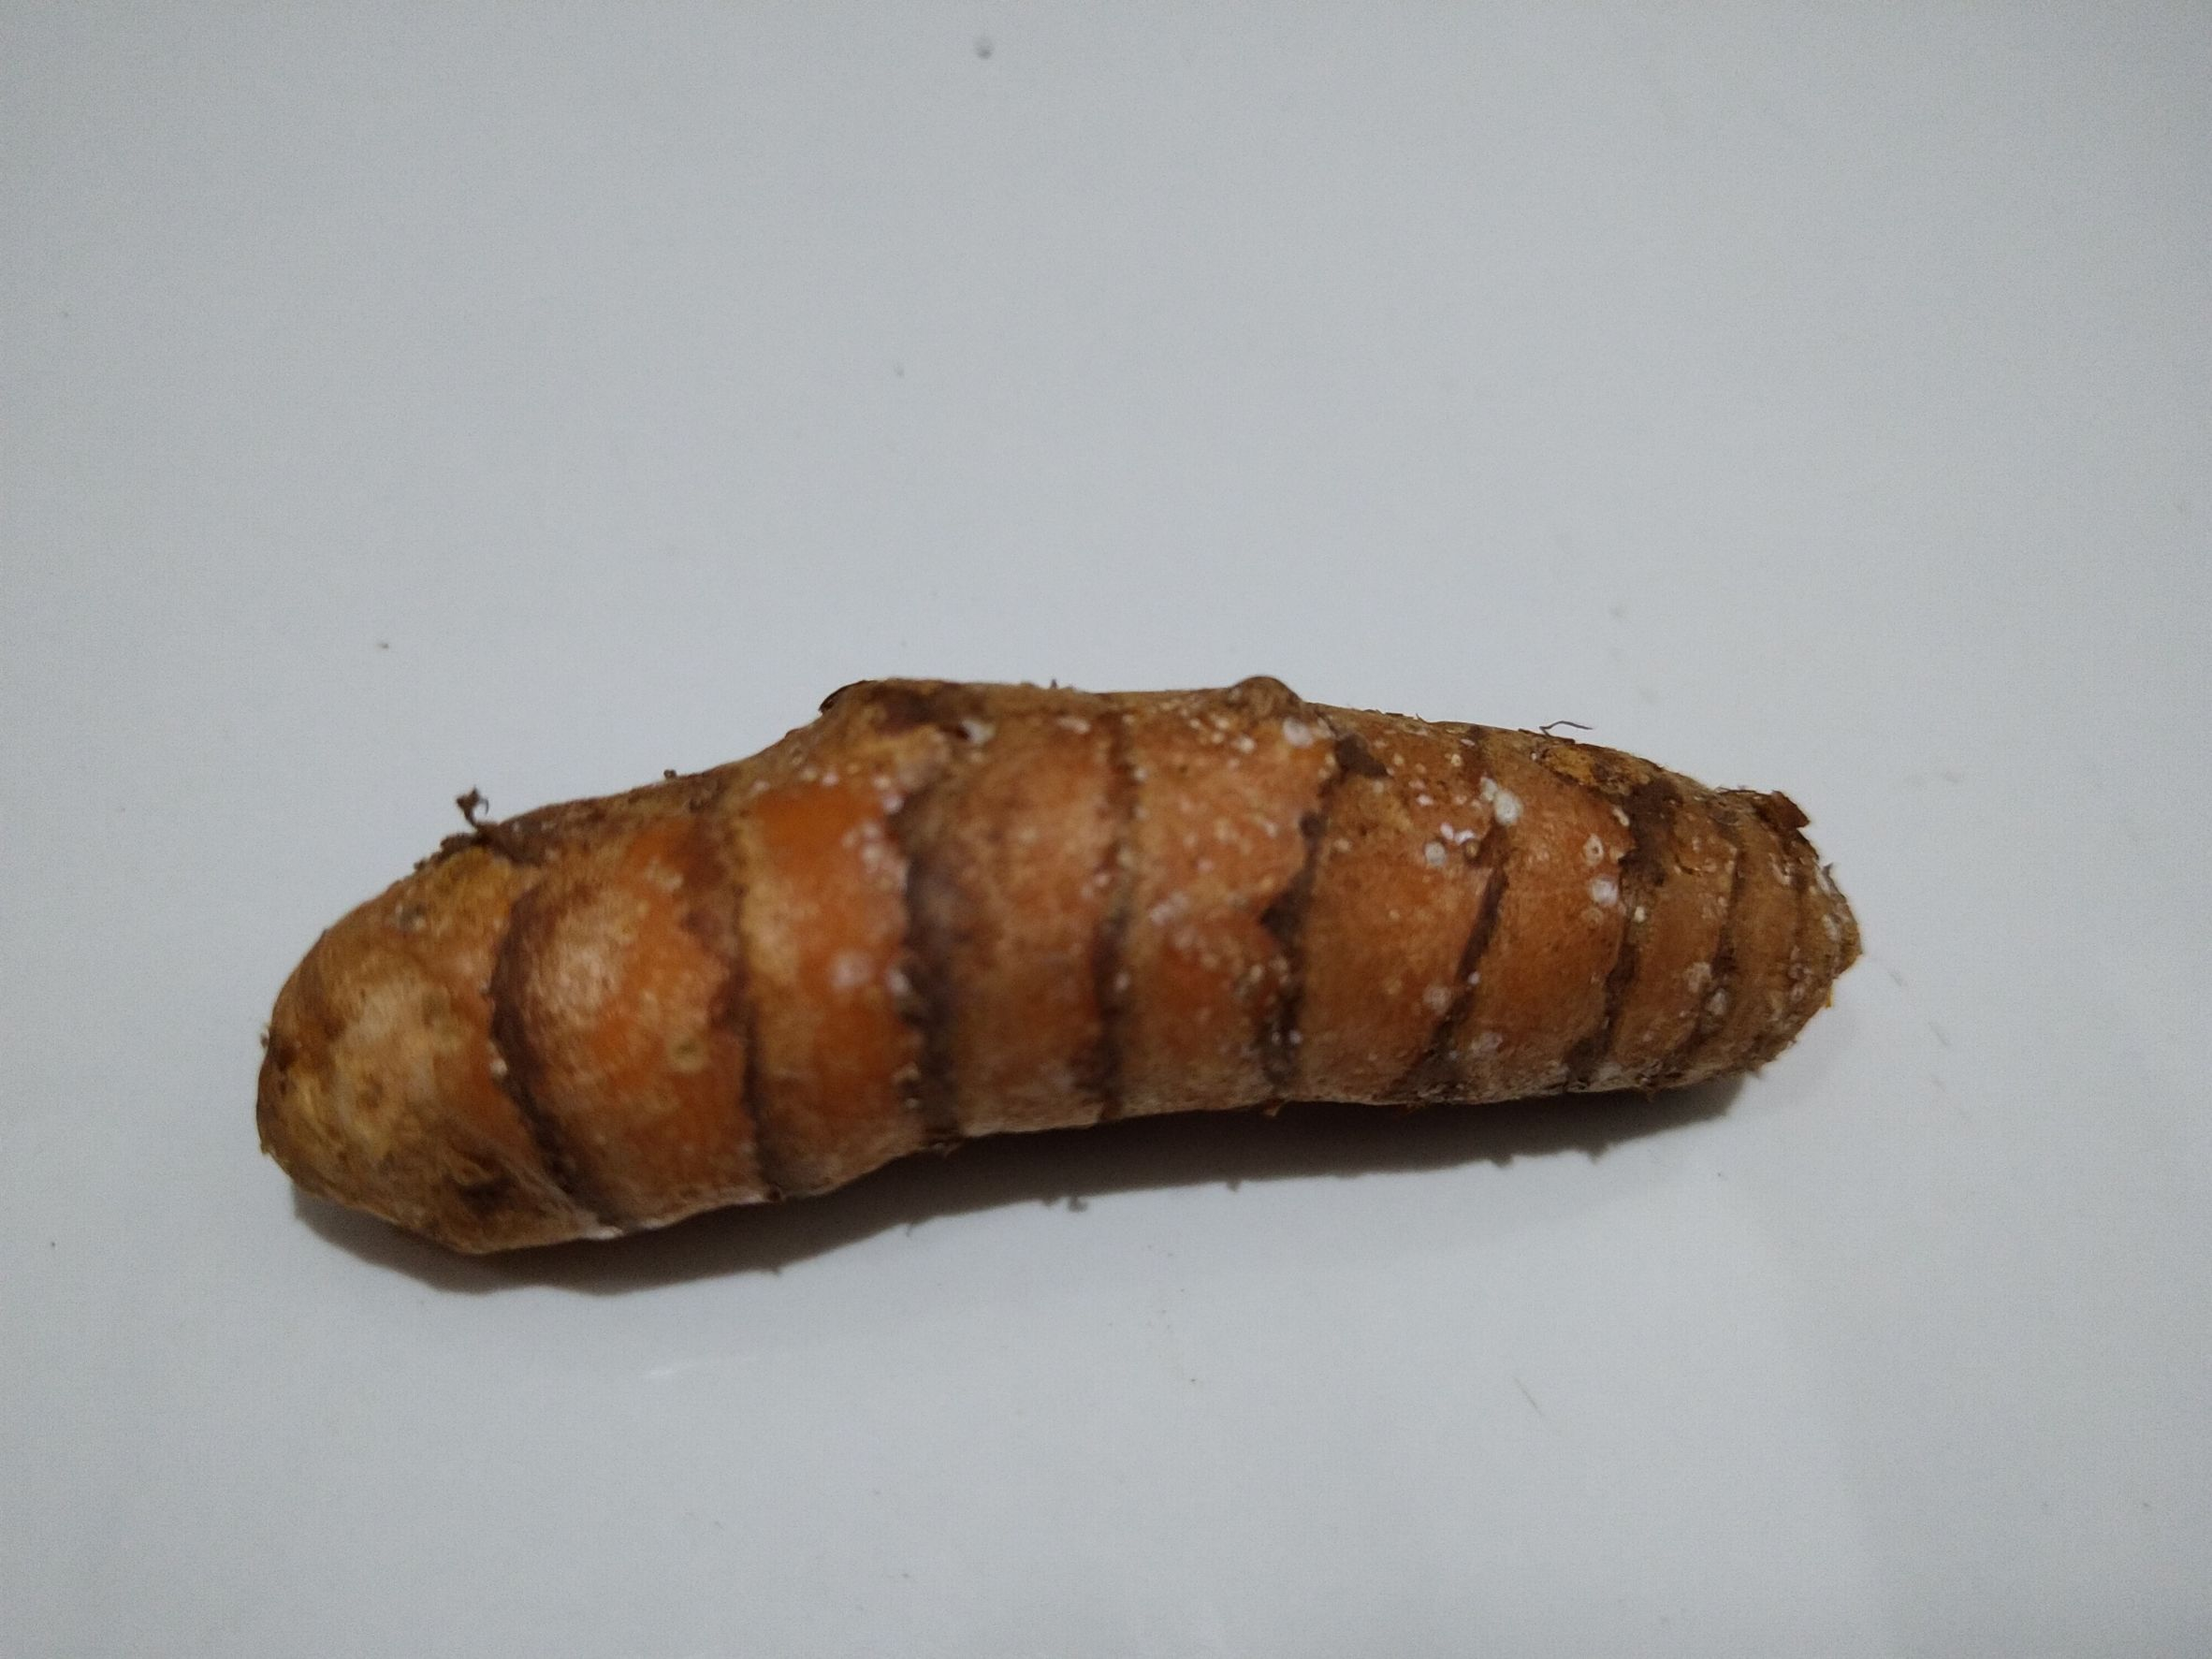Kunyit: (254, 687, 1858, 1291)
